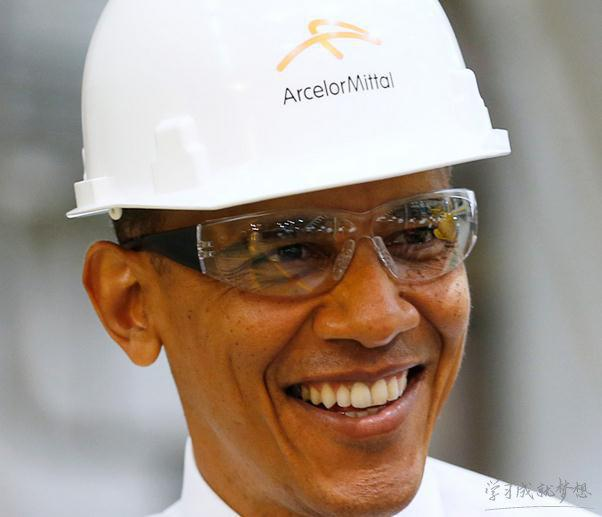helmet: (70, 0, 511, 514)
